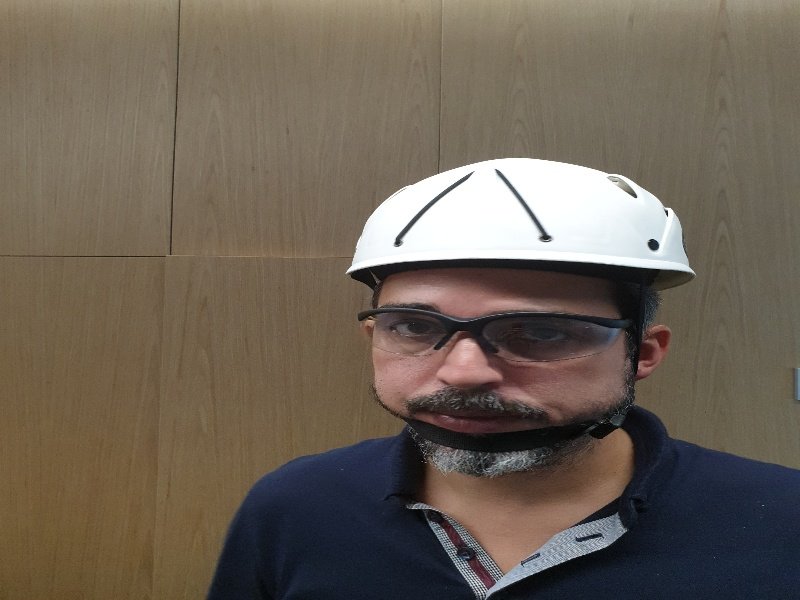Baret: (347, 156, 693, 281)
Gozluk: (357, 307, 640, 363)
